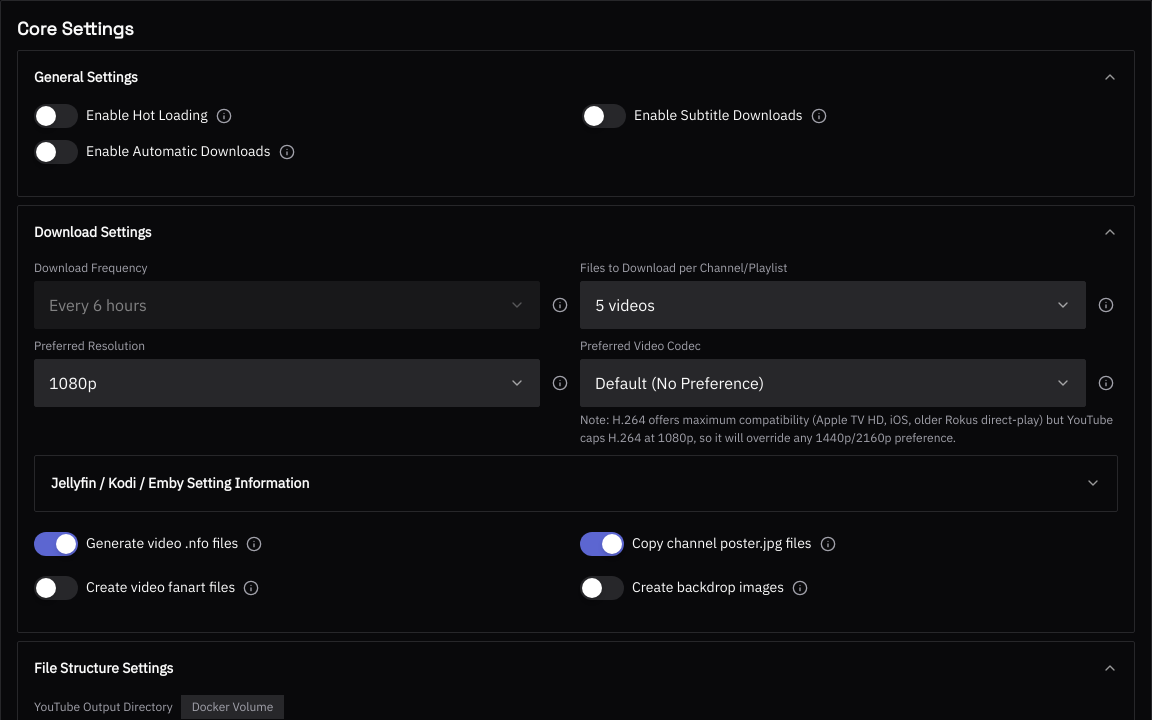
CoreSettingsSection Component › Preferred Video Codec Select › displays all codec options
Click the button "Default (No Preference)" at (680, 383), box [580,359,1086,407]
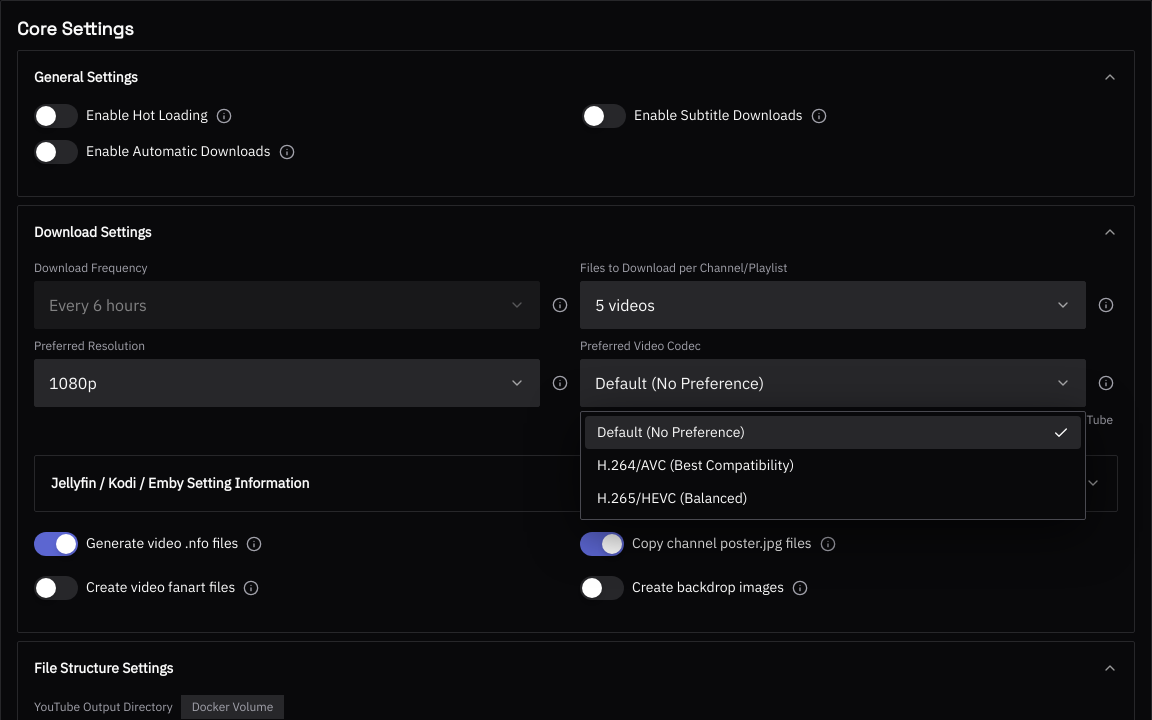
Expected: the option "Default (No Preference)" is shown, [585,416,1081,449]
Expected: the option "H.264/AVC (Best Compatibility)" is shown, [597,456,794,474]
Expected: the option "H.265/HEVC (Balanced)" is shown, [597,489,748,507]
